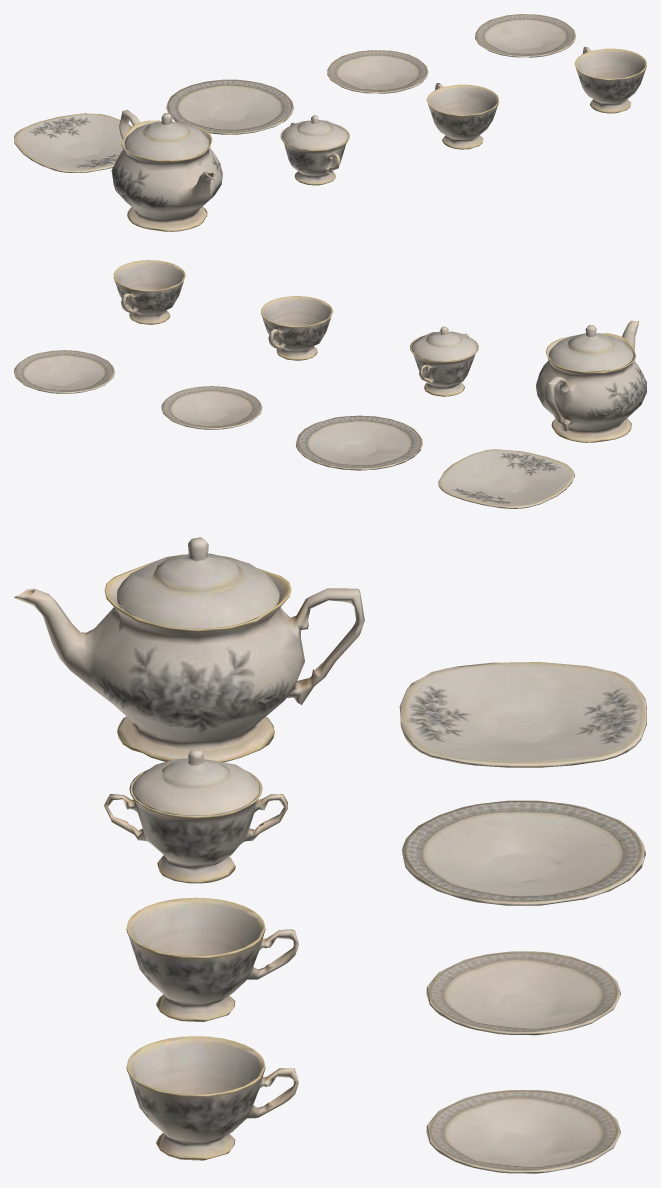
File: tea_set_01.lod1.glb
The picture shows the model from 3 angles, top to bottom: view 1: azimuth 30°, elevation 25°; view 2: azimuth 150°, elevation 25°; view 3: azimuth 270°, elevation 25°; orthographic projection. The views are drawn at different scales.
Visible parts, largest first — view 1: tea_set_01_teapot_01, tea_set_01_plate_large_circular_03, tea_set_01_plate_large_square_01, tea_set_01_cup_small_02, tea_set_01_cup_small_01, tea_set_01_saucer_circular_04, tea_set_01_saucer_circular_03, tea_set_01_teapot_01_lid, tea_set_01_sugar_cup_01, tea_set_01_sugar_cup_01_lid; view 2: tea_set_01_teapot_01, tea_set_01_plate_large_square_01, tea_set_01_plate_large_circular_03, tea_set_01_cup_small_02, tea_set_01_cup_small_01, tea_set_01_saucer_circular_03, tea_set_01_saucer_circular_04, tea_set_01_teapot_01_lid, tea_set_01_sugar_cup_01, tea_set_01_sugar_cup_01_lid; view 3: tea_set_01_teapot_01, tea_set_01_plate_large_square_01, tea_set_01_plate_large_circular_03, tea_set_01_cup_small_01, tea_set_01_cup_small_02, tea_set_01_saucer_circular_04, tea_set_01_saucer_circular_03, tea_set_01_teapot_01_lid, tea_set_01_sugar_cup_01, tea_set_01_sugar_cup_01_lid.
Part boxes in pixels (x1,y1,x2,y2): tea_set_01_teapot_01: [111, 110, 222, 231]; tea_set_01_plate_large_circular_03: [166, 79, 293, 134]; tea_set_01_plate_large_square_01: [14, 113, 132, 172]; tea_set_01_cup_small_02: [574, 46, 646, 113]; tea_set_01_cup_small_01: [426, 83, 498, 149]; tea_set_01_saucer_circular_04: [327, 50, 428, 93]; tea_set_01_saucer_circular_03: [475, 14, 575, 57]; tea_set_01_teapot_01_lid: [124, 113, 209, 160]; tea_set_01_sugar_cup_01: [280, 122, 349, 185]; tea_set_01_sugar_cup_01_lid: [282, 115, 348, 150]; tea_set_01_teapot_01: [536, 320, 646, 442]; tea_set_01_plate_large_square_01: [438, 449, 574, 508]; tea_set_01_plate_large_circular_03: [295, 415, 422, 470]; tea_set_01_cup_small_02: [113, 260, 185, 324]; tea_set_01_cup_small_01: [261, 296, 332, 360]; tea_set_01_saucer_circular_03: [14, 350, 114, 393]; tea_set_01_saucer_circular_04: [161, 386, 262, 429]; tea_set_01_teapot_01_lid: [548, 325, 633, 371]; tea_set_01_sugar_cup_01: [410, 334, 478, 396]; tea_set_01_sugar_cup_01_lid: [411, 326, 477, 361]; tea_set_01_teapot_01: [14, 554, 364, 762]; tea_set_01_plate_large_square_01: [399, 662, 646, 767]; tea_set_01_plate_large_circular_03: [402, 800, 645, 905]; tea_set_01_cup_small_01: [126, 897, 298, 1022]; tea_set_01_cup_small_02: [126, 1036, 298, 1160]; tea_set_01_saucer_circular_04: [426, 951, 620, 1035]; tea_set_01_saucer_circular_03: [426, 1090, 620, 1173]; tea_set_01_teapot_01_lid: [117, 537, 279, 628]; tea_set_01_sugar_cup_01: [104, 769, 287, 883]; tea_set_01_sugar_cup_01_lid: [132, 750, 259, 815].
Size of the model in its own units: 0.9167 by 0.1633 by 0.4831.
1 material, 1 textured.
